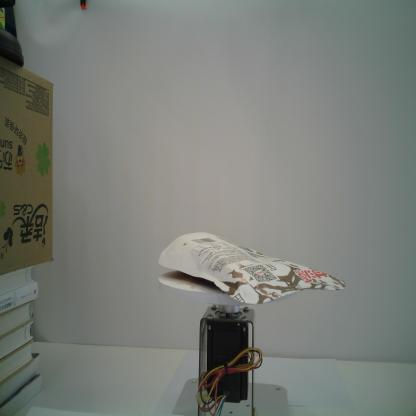Dried Fruit: (157, 230, 347, 307)
